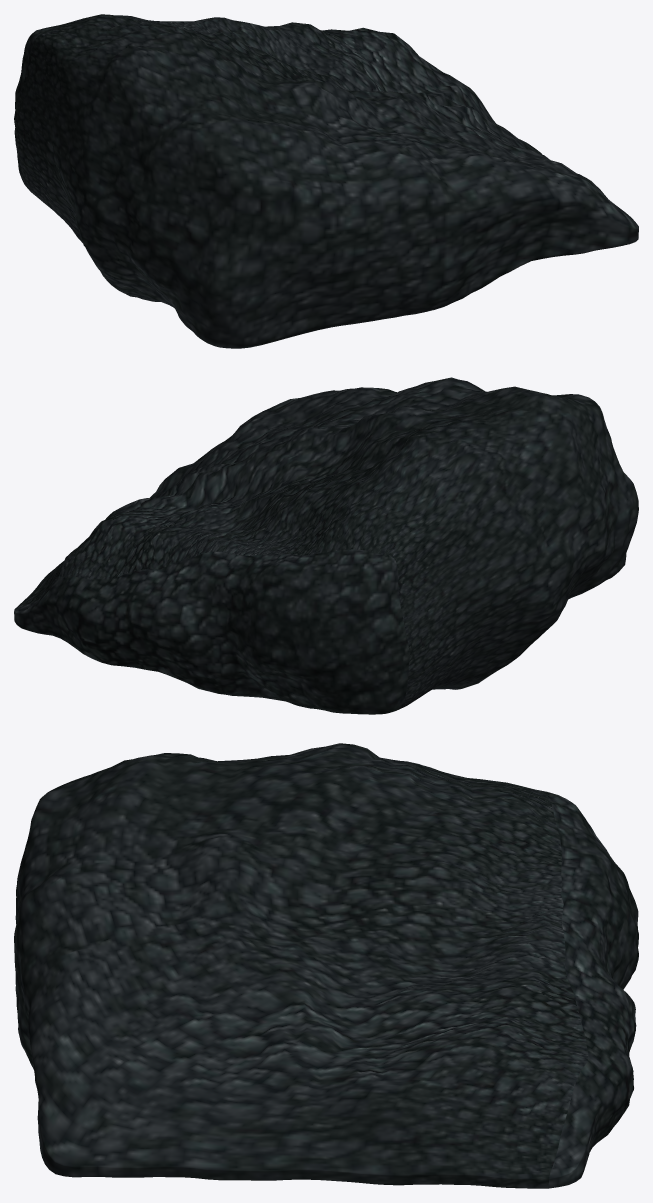
File: rocky slope 3.fbx
3 views of the same model, one above another, from view 1: azimuth 30°, elevation 25°; view 2: azimuth 150°, elevation 25°; view 3: azimuth 270°, elevation 25° (orthographic). The views are drawn at different scales.
Visible parts, largest first — view 1: pCube2; view 2: pCube2; view 3: pCube2.
Part boxes in pixels (x1,y1,x2,y2): pCube2: (14,14,638,348); pCube2: (14,377,638,714); pCube2: (14,743,638,1188).
Size of the model in its own units: 1191 by 619 by 1213.
